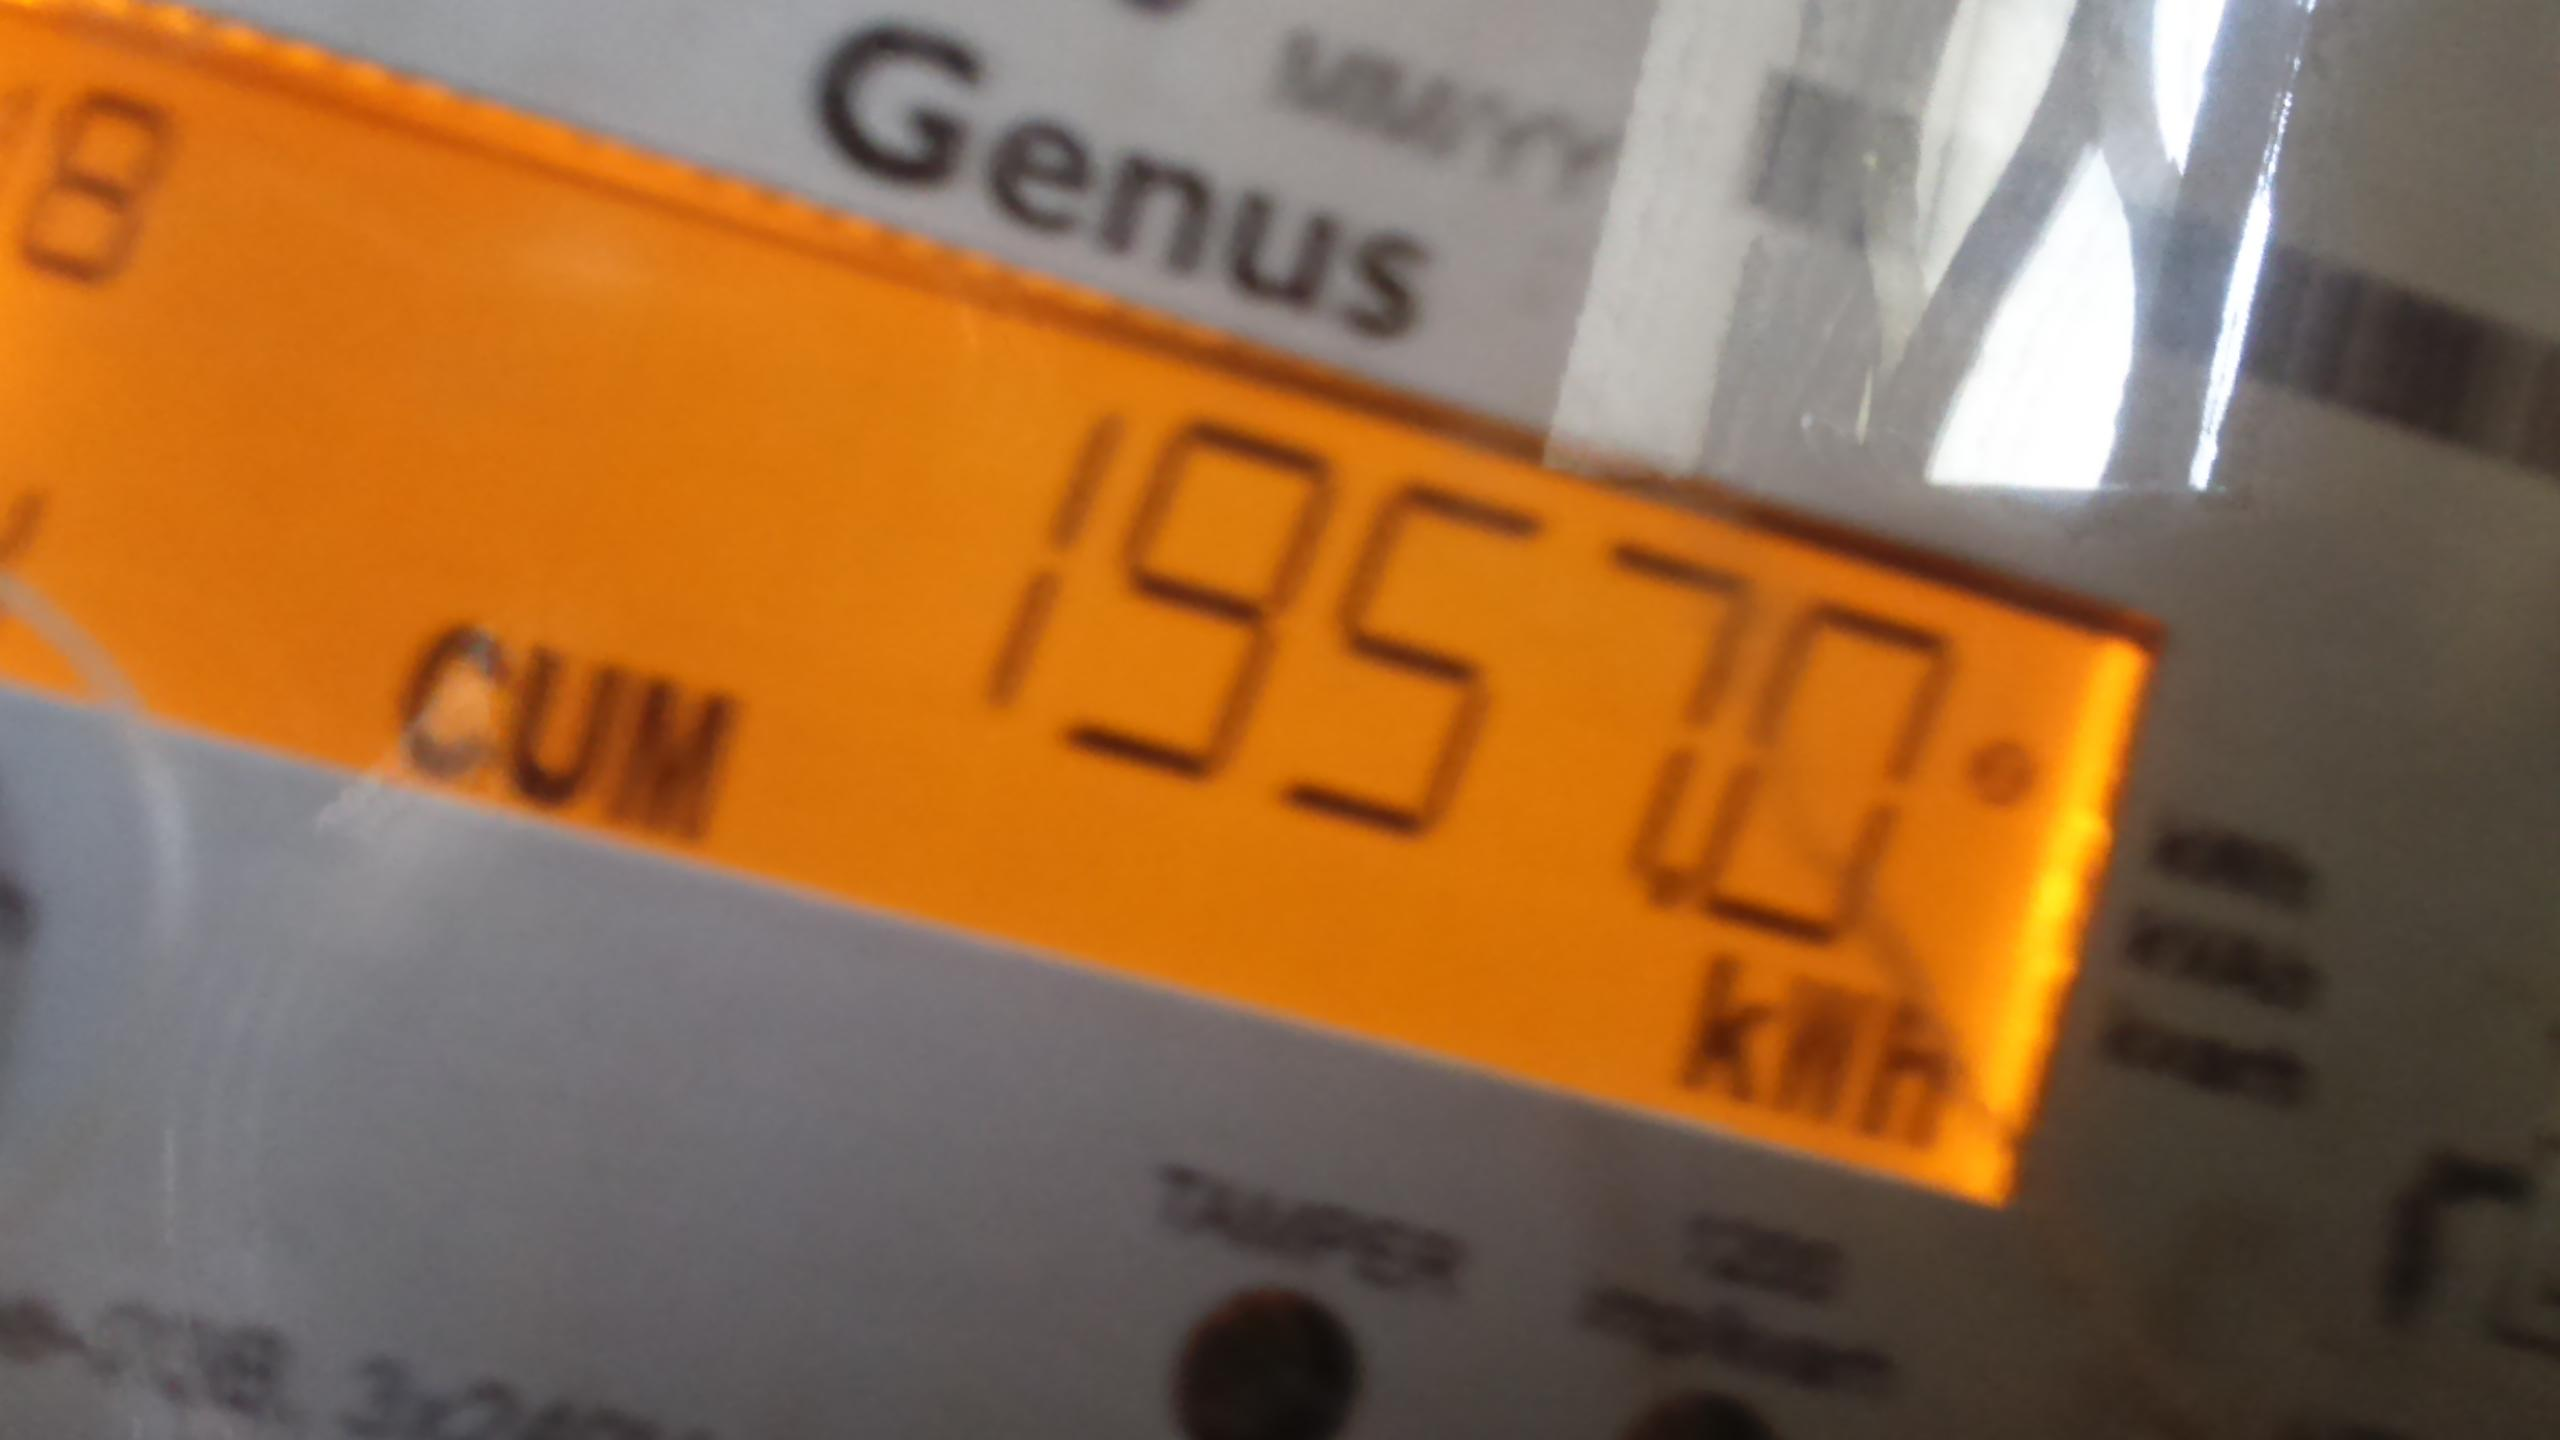.: (1676, 962, 1957, 1164)
0: (1618, 809, 1713, 935)
1: (1707, 573, 1982, 942)
2: (944, 353, 1138, 733)
6: (1278, 459, 1542, 869)
8: (1521, 524, 1781, 869)
:: (1034, 403, 1422, 805)
